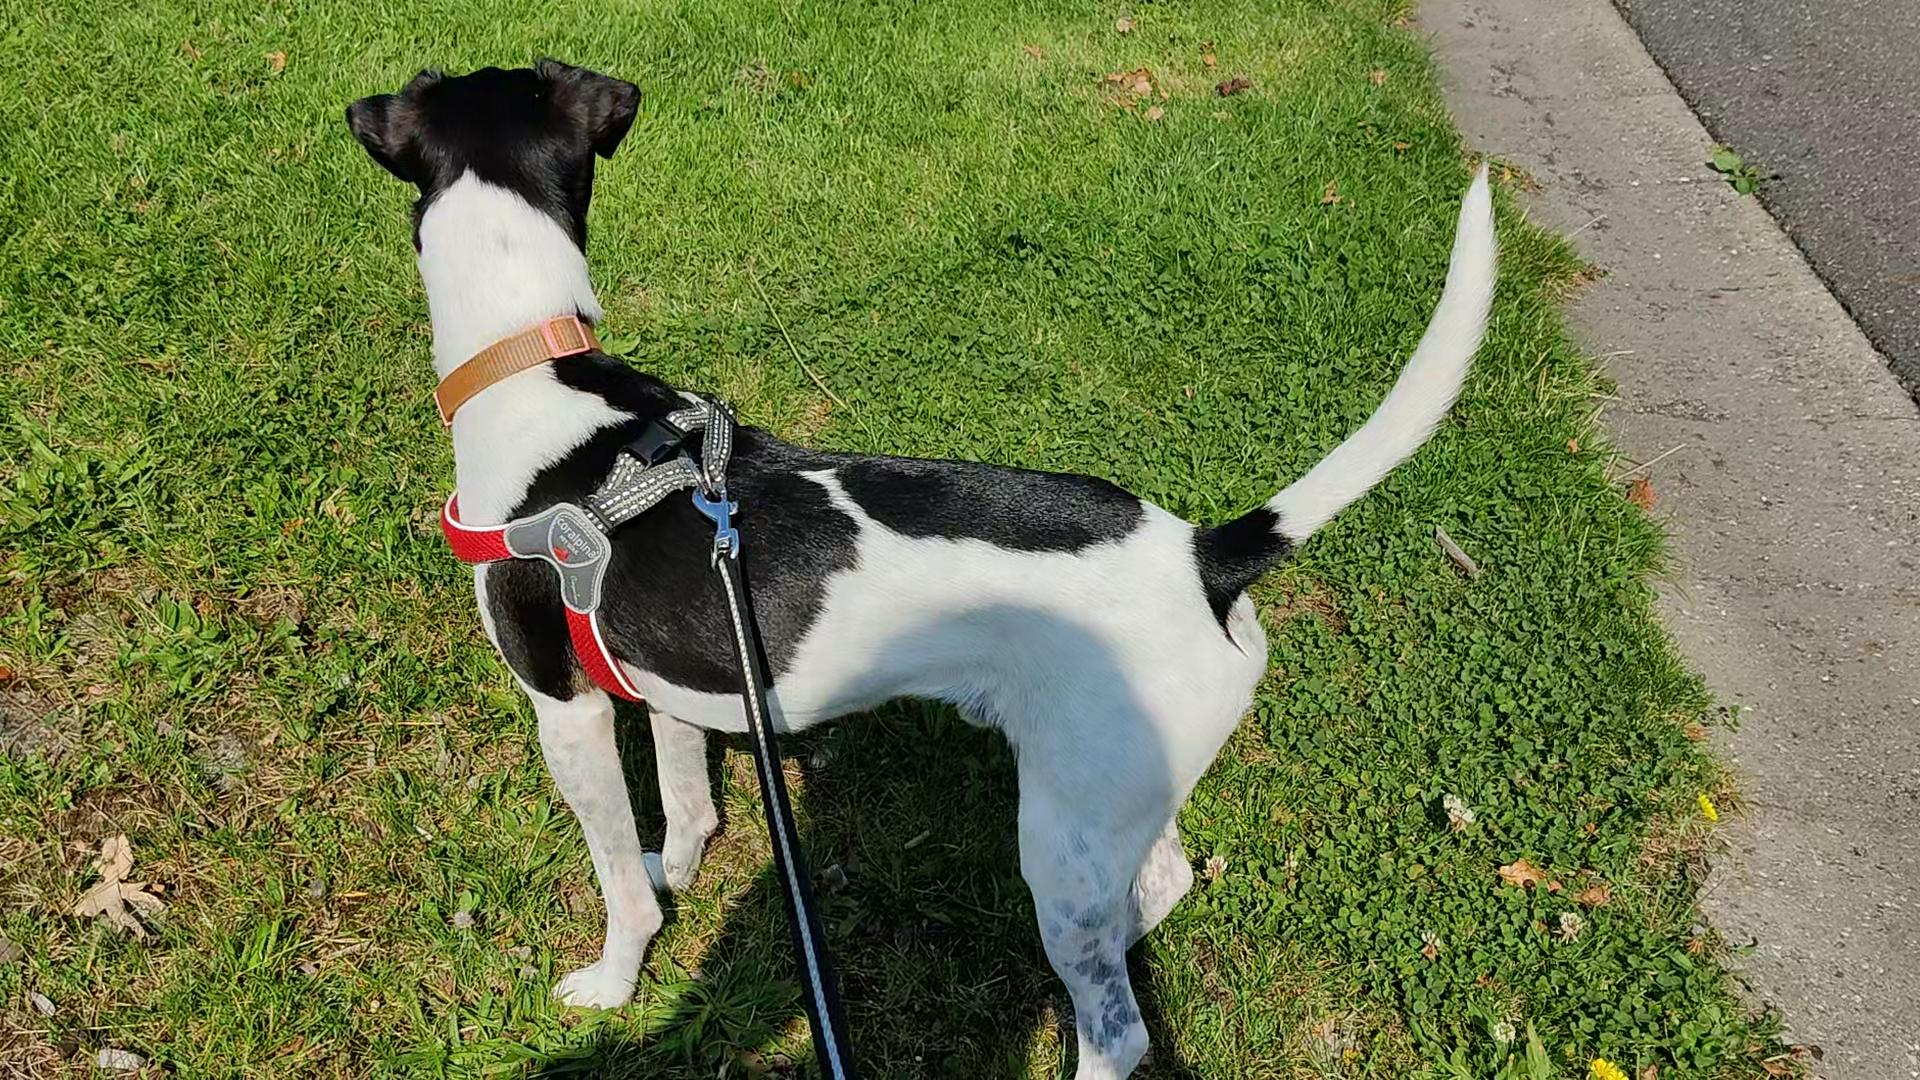Dog: (342, 55, 1503, 1079)
